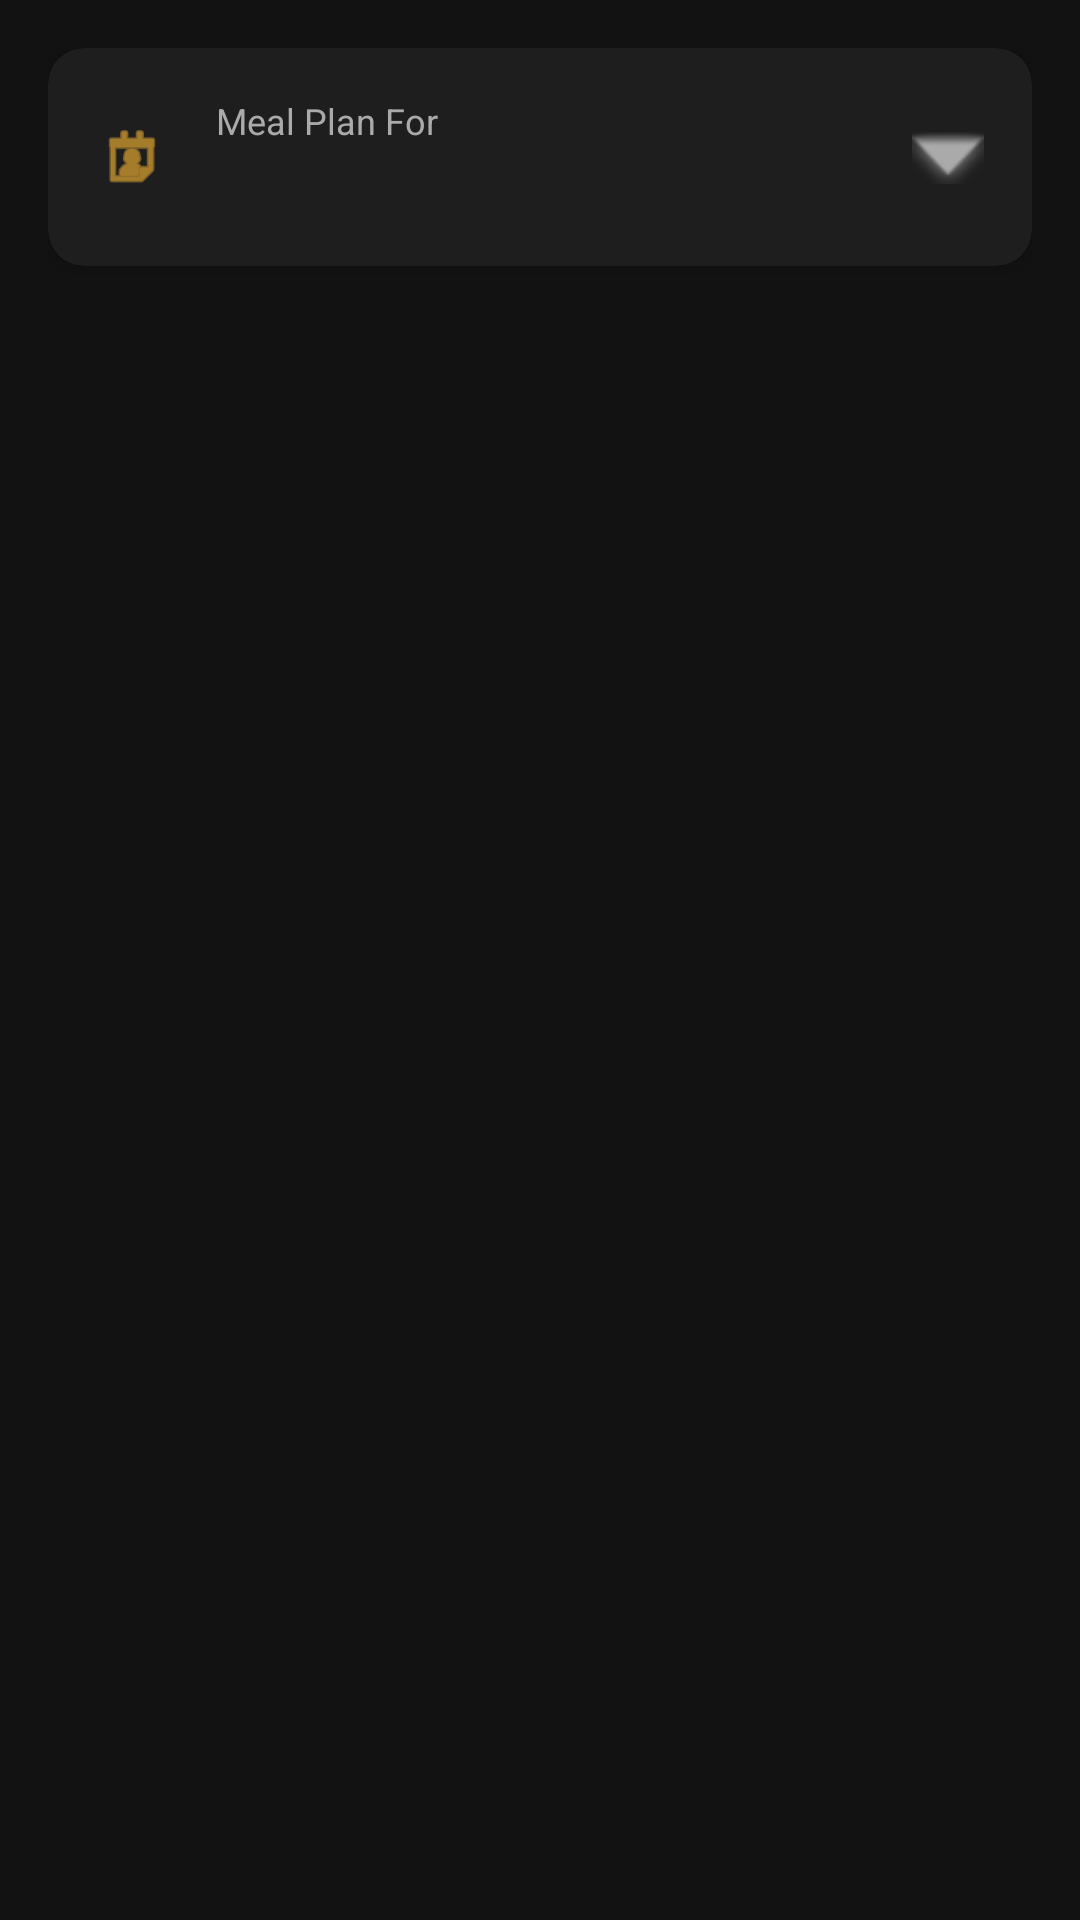

Screen size 1080px x 1920px. Icon name, then its box in pixels as bbox(x1, y1, x2, y2):
arrow down float: bbox(912, 134, 984, 178)
calendar: bbox(109, 130, 155, 183)
